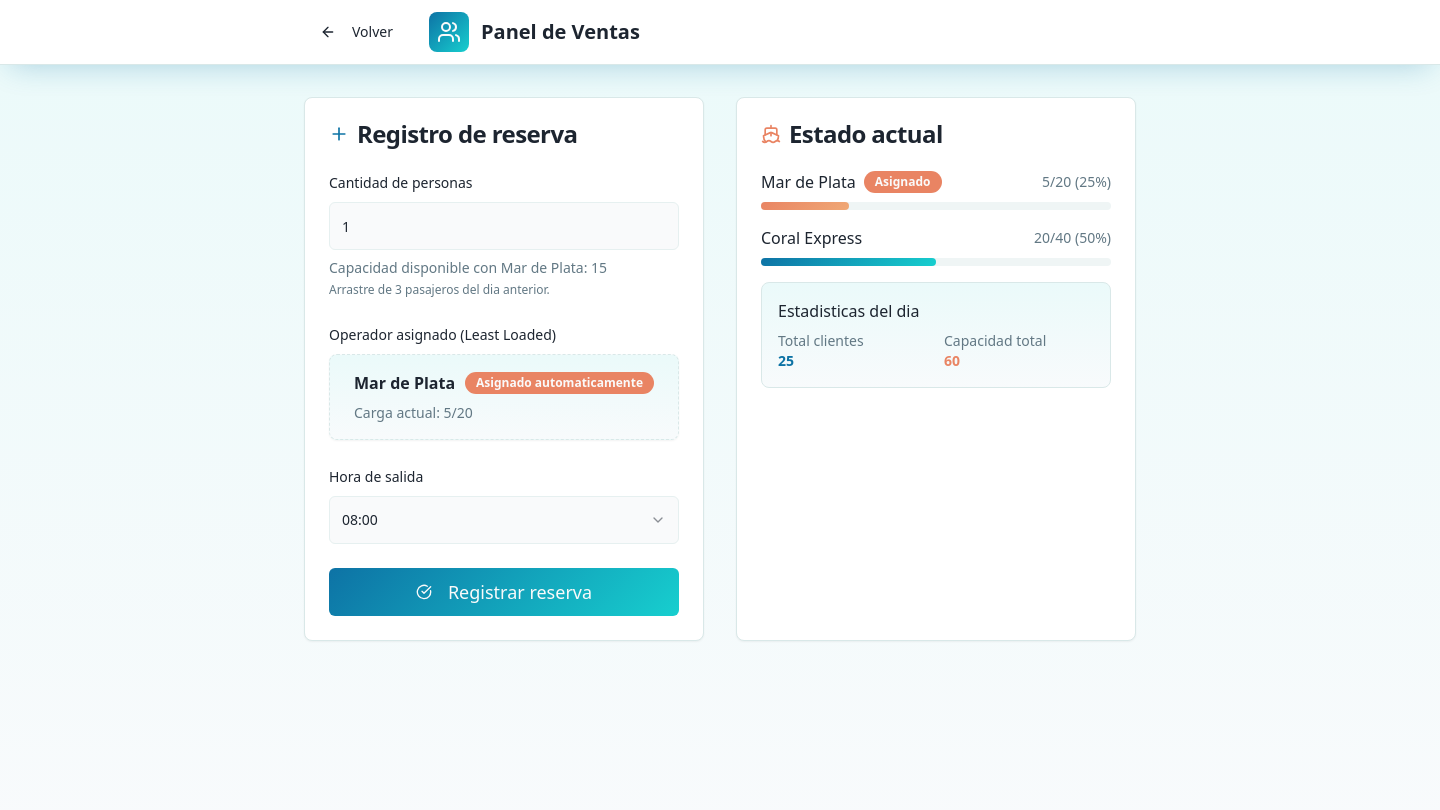
Test: SalesView › recommends the optimal operator and submits reservations successfully
Expected: the heading "Panel de Ventas" is shown, x1=481 y1=18 x2=640 y2=46
Expected: the text "Mar de Plata" is shown, x1=354 y1=372 x2=455 y2=394
Replace the text in the number field labelled "Cantidad de personas" with "3" at {"x": 504, "y": 226}, box x1=329 y1=202 x2=679 y2=250
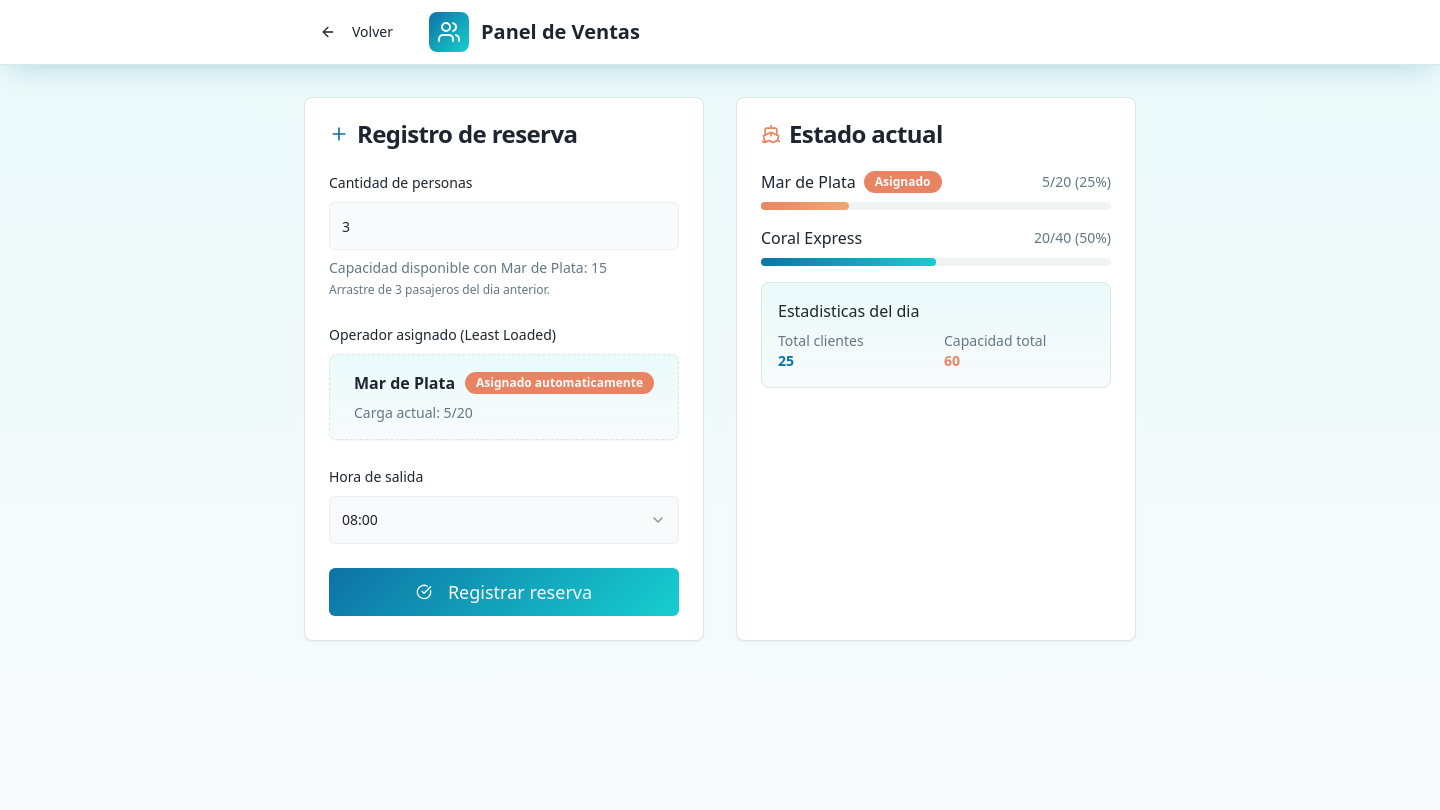
Click the button "Registrar reserva".
click(504, 592)  # box x1=329 y1=568 x2=679 y2=616
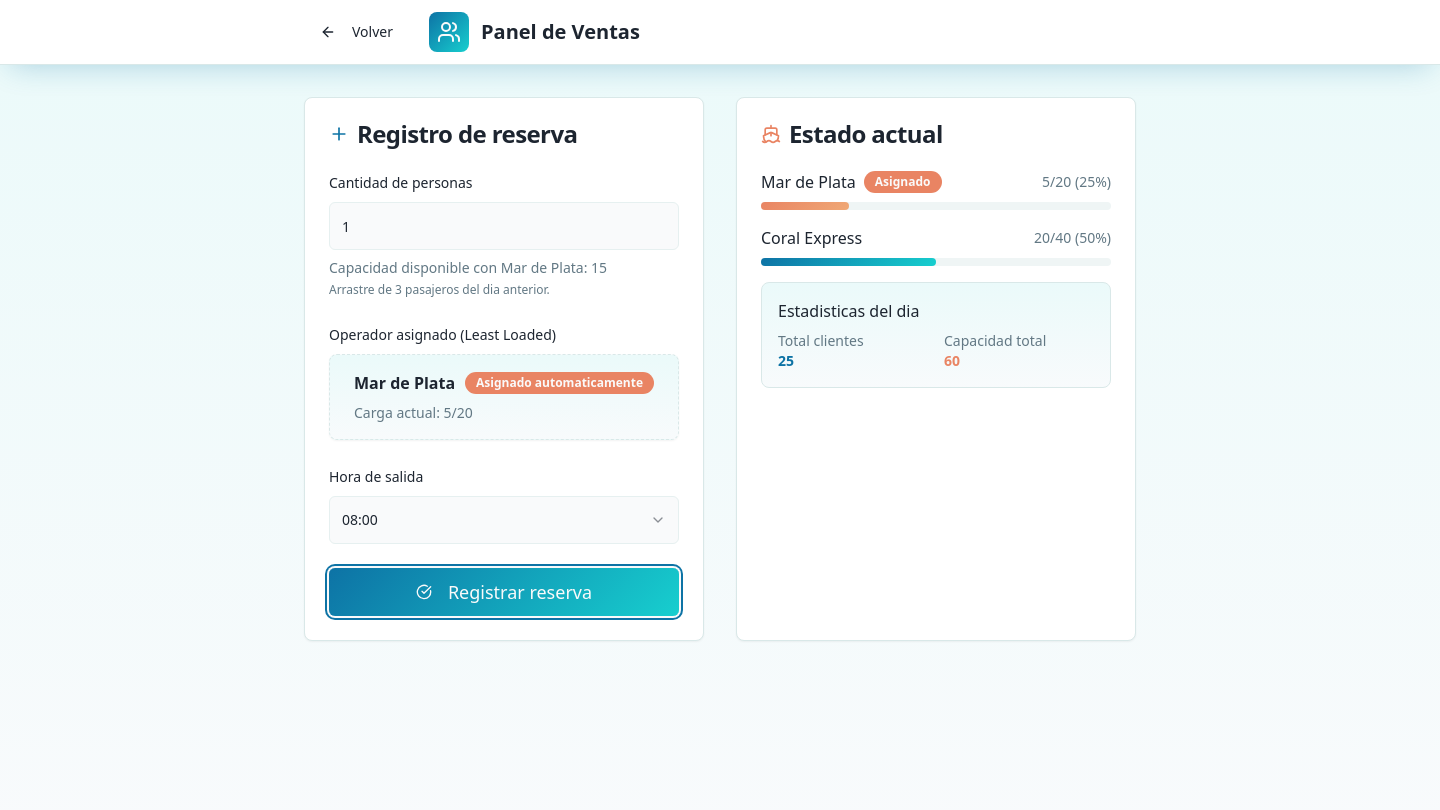
Expected: the text "Estadisticas del dia" is shown, x1=778 y1=300 x2=919 y2=322
Result: the number field labelled "Cantidad de personas" holds "1" at x1=329 y1=202 x2=679 y2=250
